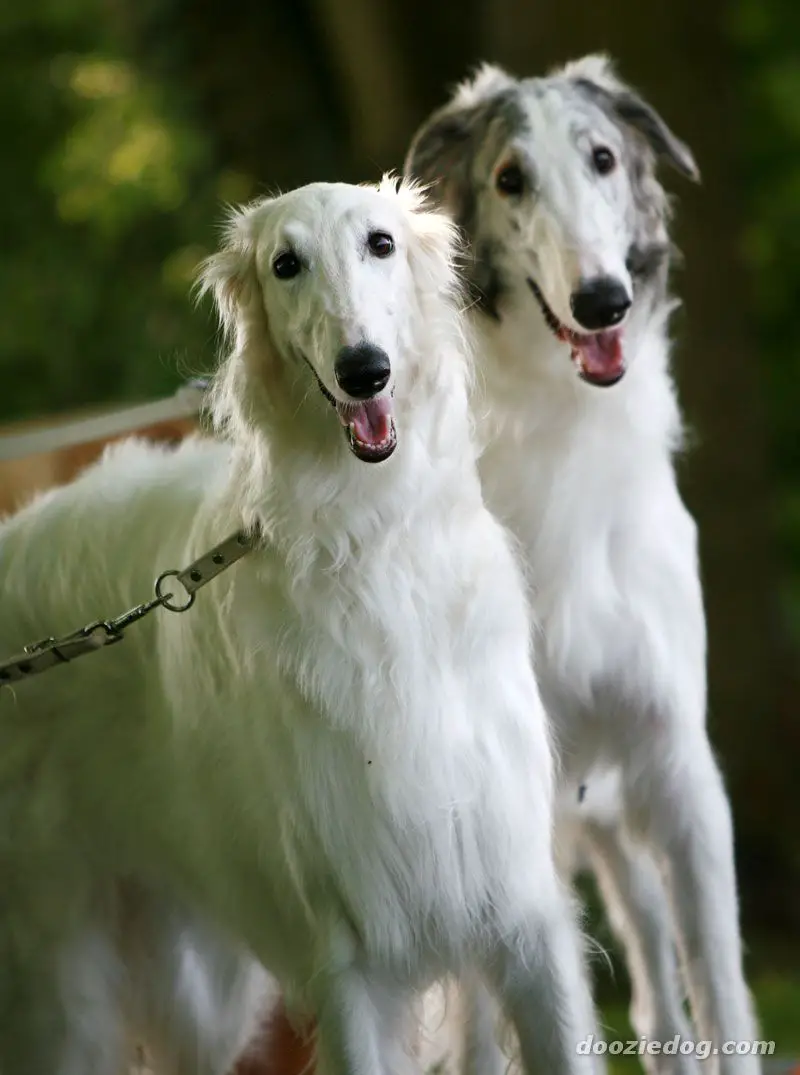borzoi: (1, 147, 484, 1075), (400, 46, 726, 1075)
